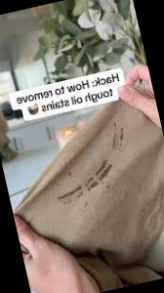oil: (83, 156, 116, 191), (52, 178, 89, 207), (103, 121, 131, 154)
